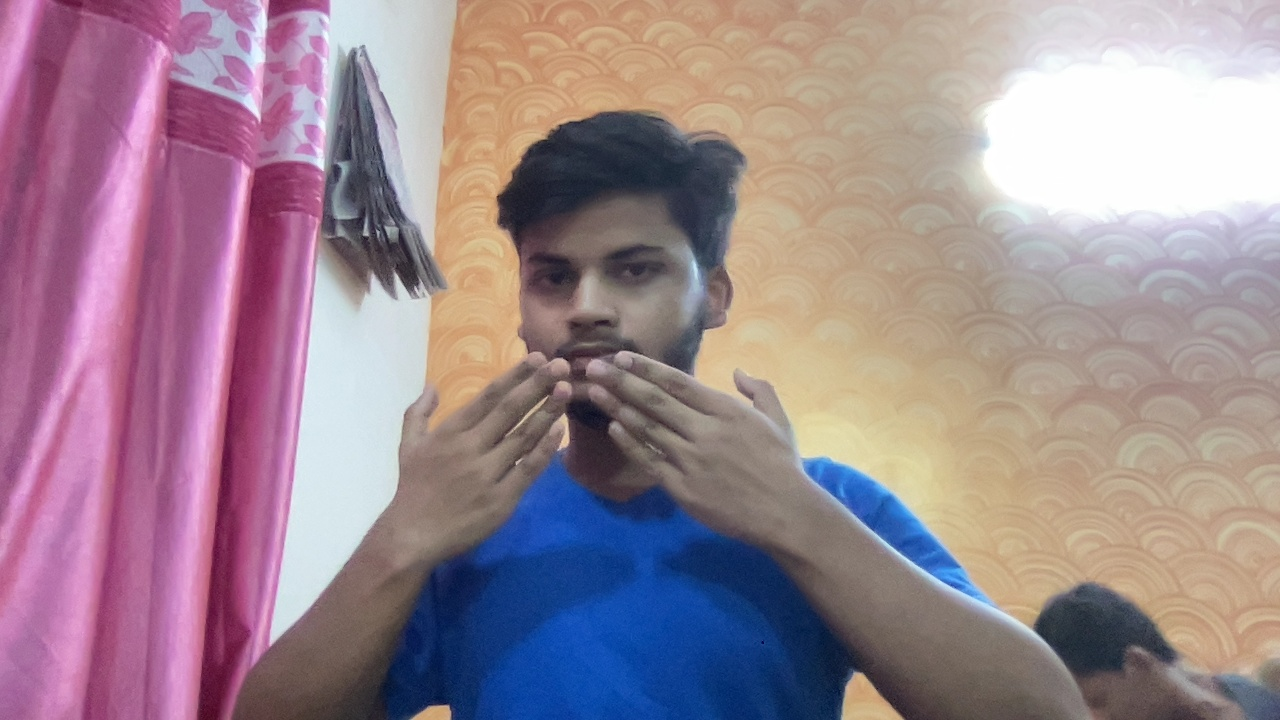thankyou: (336, 301, 928, 553)
